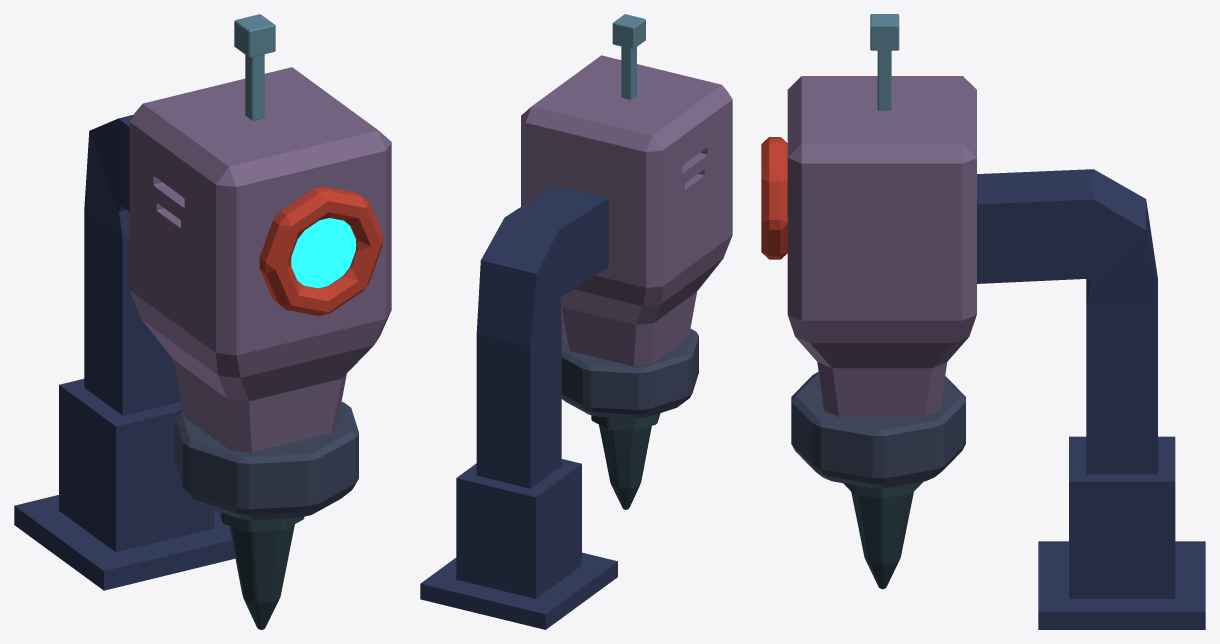
Rendered from machine3.fbx.
3 views of the same model, side by side, from view 1: azimuth 30°, elevation 25°; view 2: azimuth 150°, elevation 25°; view 3: azimuth 270°, elevation 25° (orthographic). The views are drawn at different scales.
Visible parts, largest first — view 1: Cylinder; view 2: Cylinder; view 3: Cylinder.
Boxes of the visible parts, x1,y1,x2,y2 form: Cylinder: [14, 14, 391, 629]; Cylinder: [420, 14, 732, 629]; Cylinder: [761, 14, 1205, 629].
Size of the model in its own units: 357 by 1186 by 837.
